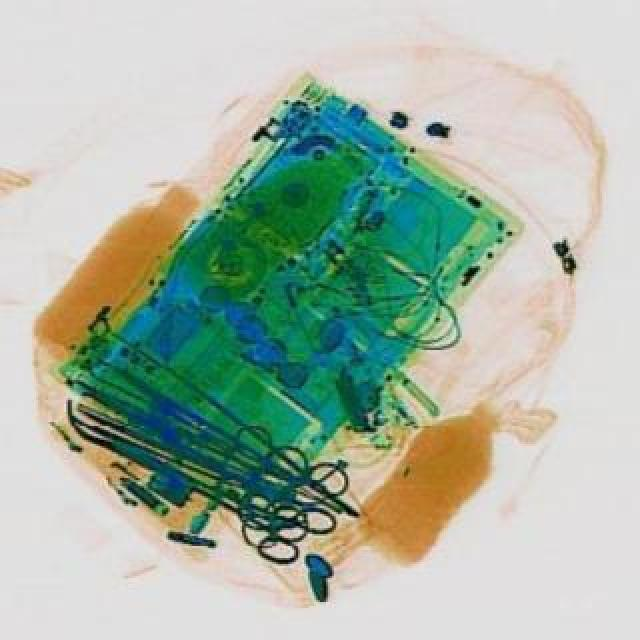pliers: (182, 446, 338, 574)
